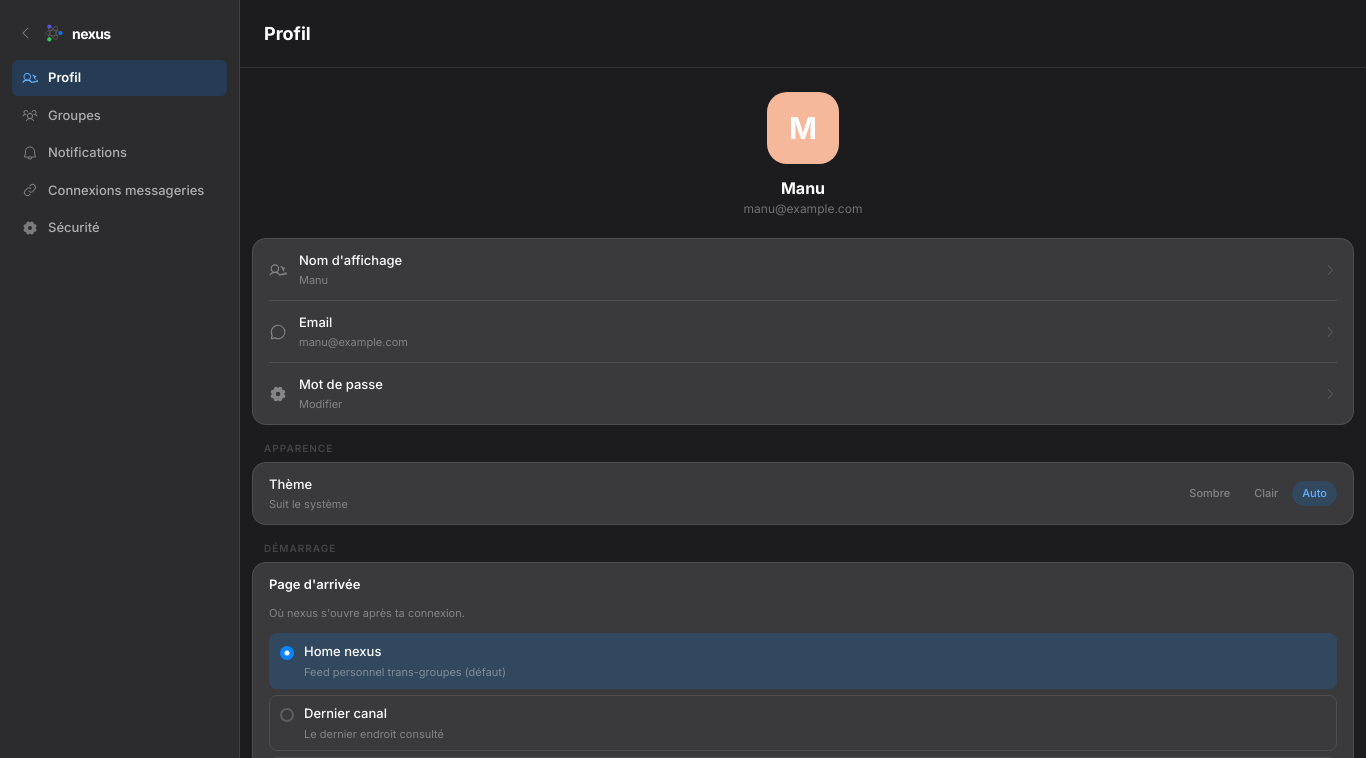
Modales de compte — nommage accessible des champs › les trois champs de mot de passe ont chacun un nom accessible distinct
This screenshot has width=1366, height=758.
Click the text "Mot de passe". click: (341,384)
box: [299,376,383,392]
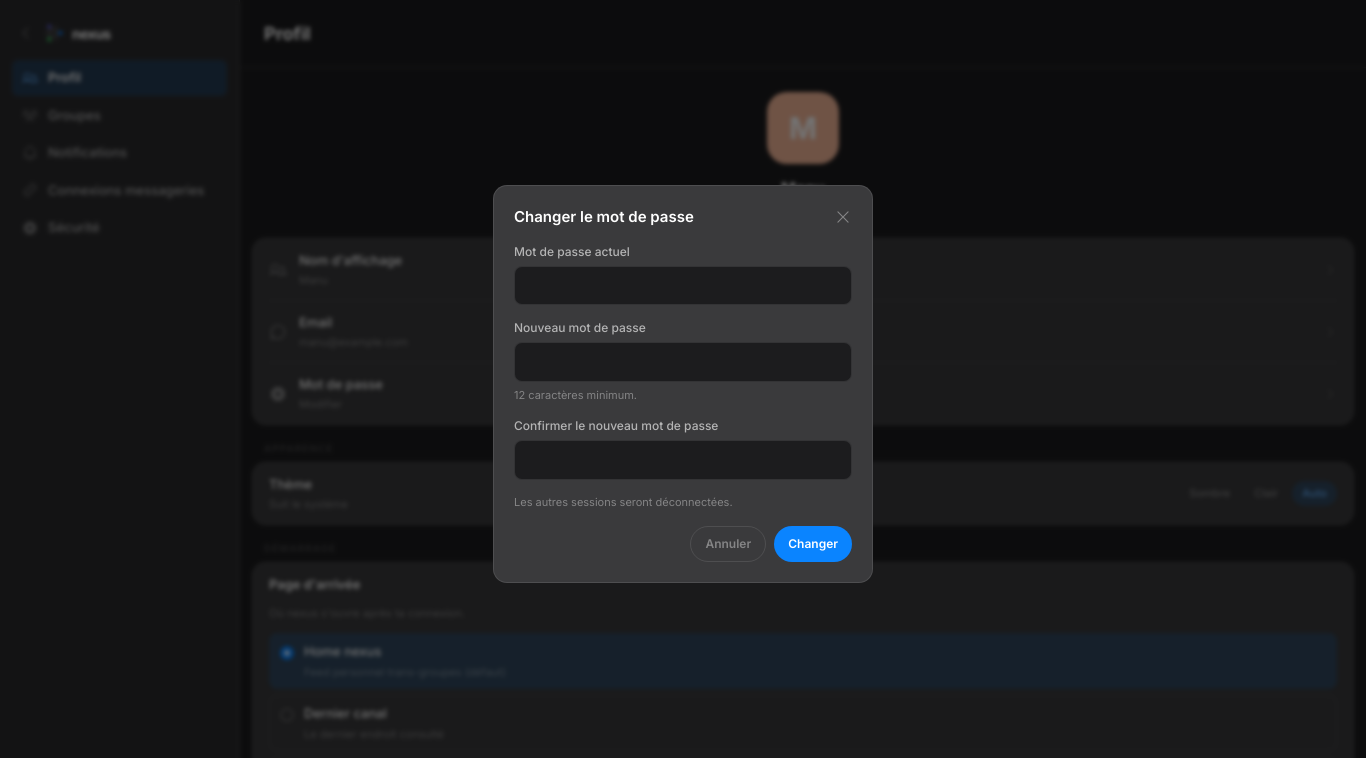
Now the password field labelled "Mot de passe actuel" is shown, box [514,266,852,305]
Now the password field labelled "Nouveau mot de passe" is shown, box [514,342,852,382]
Now the password field labelled "Confirmer le nouveau mot de passe" is shown, box [514,440,852,480]
